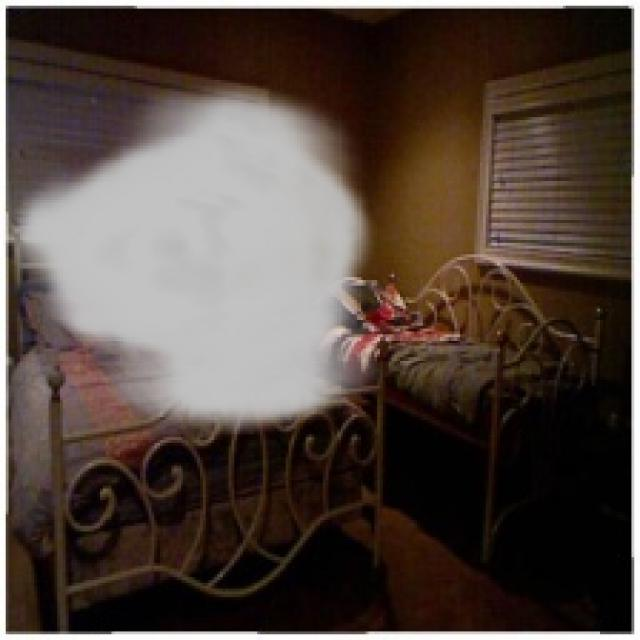smoke: (3, 77, 377, 434)
